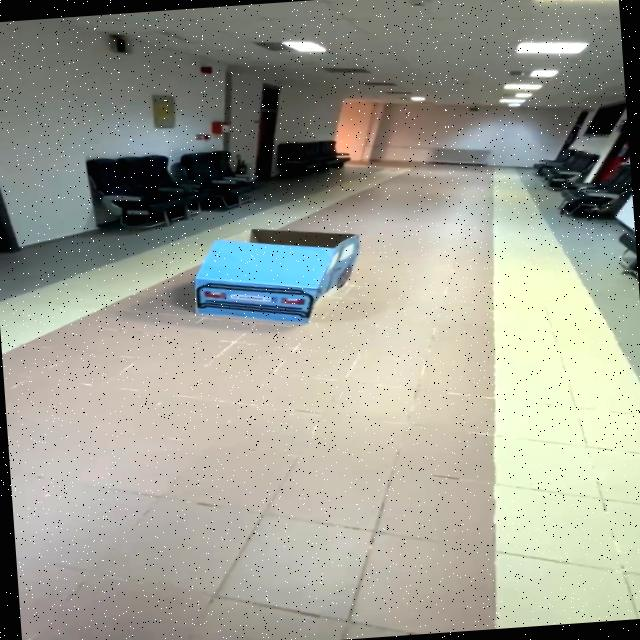blue_car: (143, 208, 412, 345)
